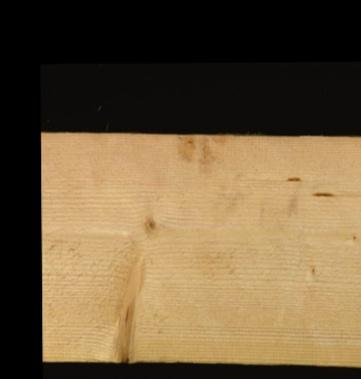small_knot: (139, 210, 158, 240)
